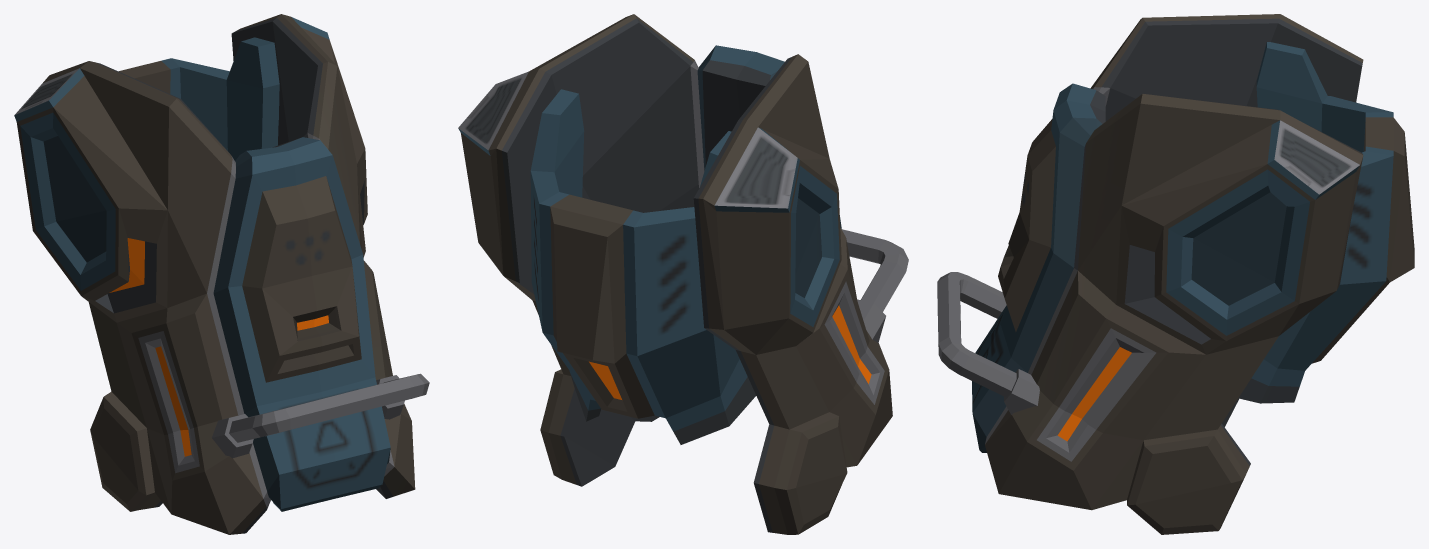
File: SM_Mech_Leg_01_Armor_Shinpad_01.fbx
3 views of the same model, side by side, from view 1: azimuth 30°, elevation 25°; view 2: azimuth 150°, elevation 25°; view 3: azimuth 270°, elevation 25° (orthographic). The views are drawn at different scales.
Parts seen in each view (by area): view 1: SM_Mech_Leg_01_Armor_Shinpad_01; view 2: SM_Mech_Leg_01_Armor_Shinpad_01; view 3: SM_Mech_Leg_01_Armor_Shinpad_01.
Part boxes in pixels (x1,y1,x2,y2): SM_Mech_Leg_01_Armor_Shinpad_01: (14,14,429,534); SM_Mech_Leg_01_Armor_Shinpad_01: (458,14,908,534); SM_Mech_Leg_01_Armor_Shinpad_01: (937,14,1414,534).
Bounding box in the file's own units: 64.93 × 84.18 × 85.81.
